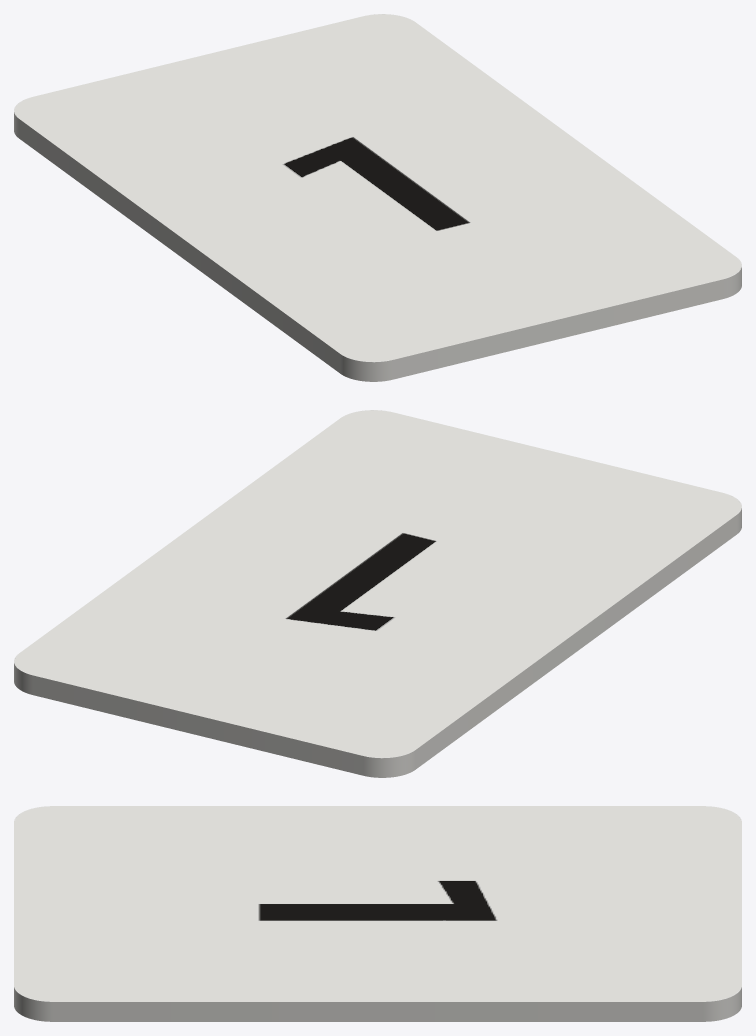
Rendered from white_1.glb.
The picture shows the model from 3 angles, top to bottom: view 1: azimuth 30°, elevation 25°; view 2: azimuth 150°, elevation 25°; view 3: azimuth 270°, elevation 25°; orthographic projection.
Visible parts, largest first — view 1: white_1; view 2: white_1; view 3: white_1.
Boxes of the visible parts, bbox=[...] form: white_1: bbox=[14, 14, 741, 381]; white_1: bbox=[14, 410, 741, 777]; white_1: bbox=[14, 806, 741, 1021].
Bounding box in the file's own units: 0.042 × 0.002 × 0.066.
2 materials, 1 textured.
